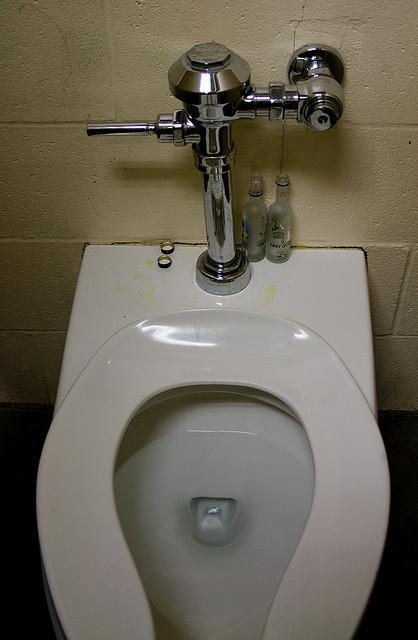Sanitario: (41, 212, 397, 630)
